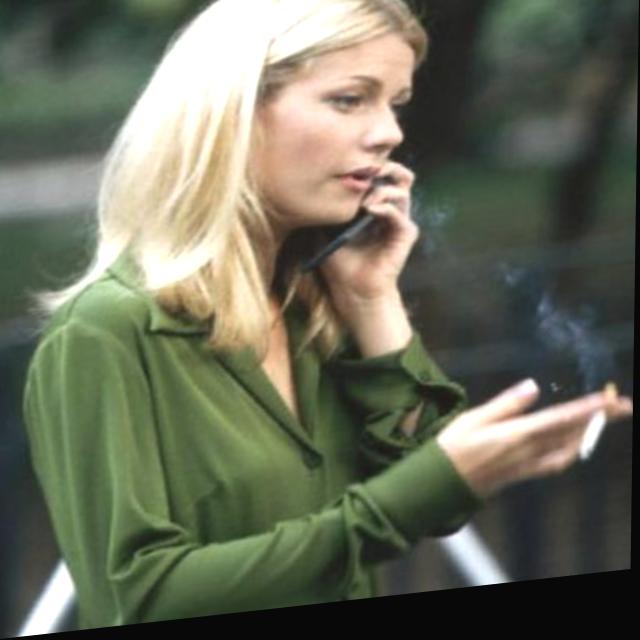cigarette: (575, 395, 619, 479)
